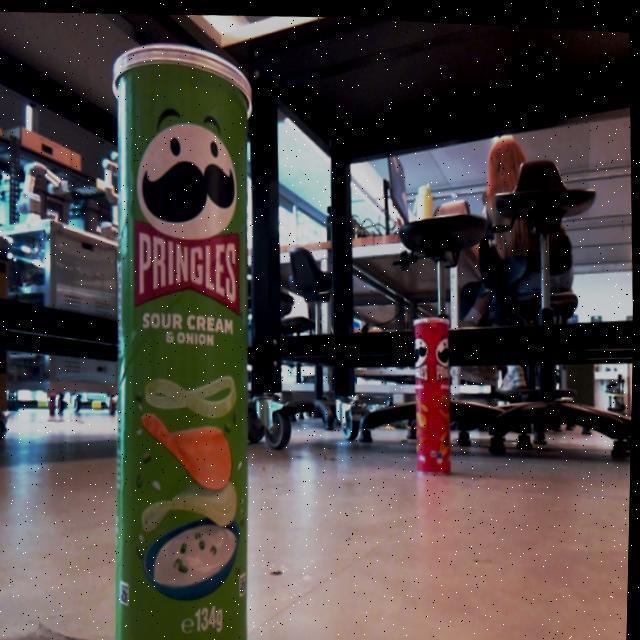greenpringles: (71, 27, 286, 640)
redpringles: (389, 292, 473, 487)
